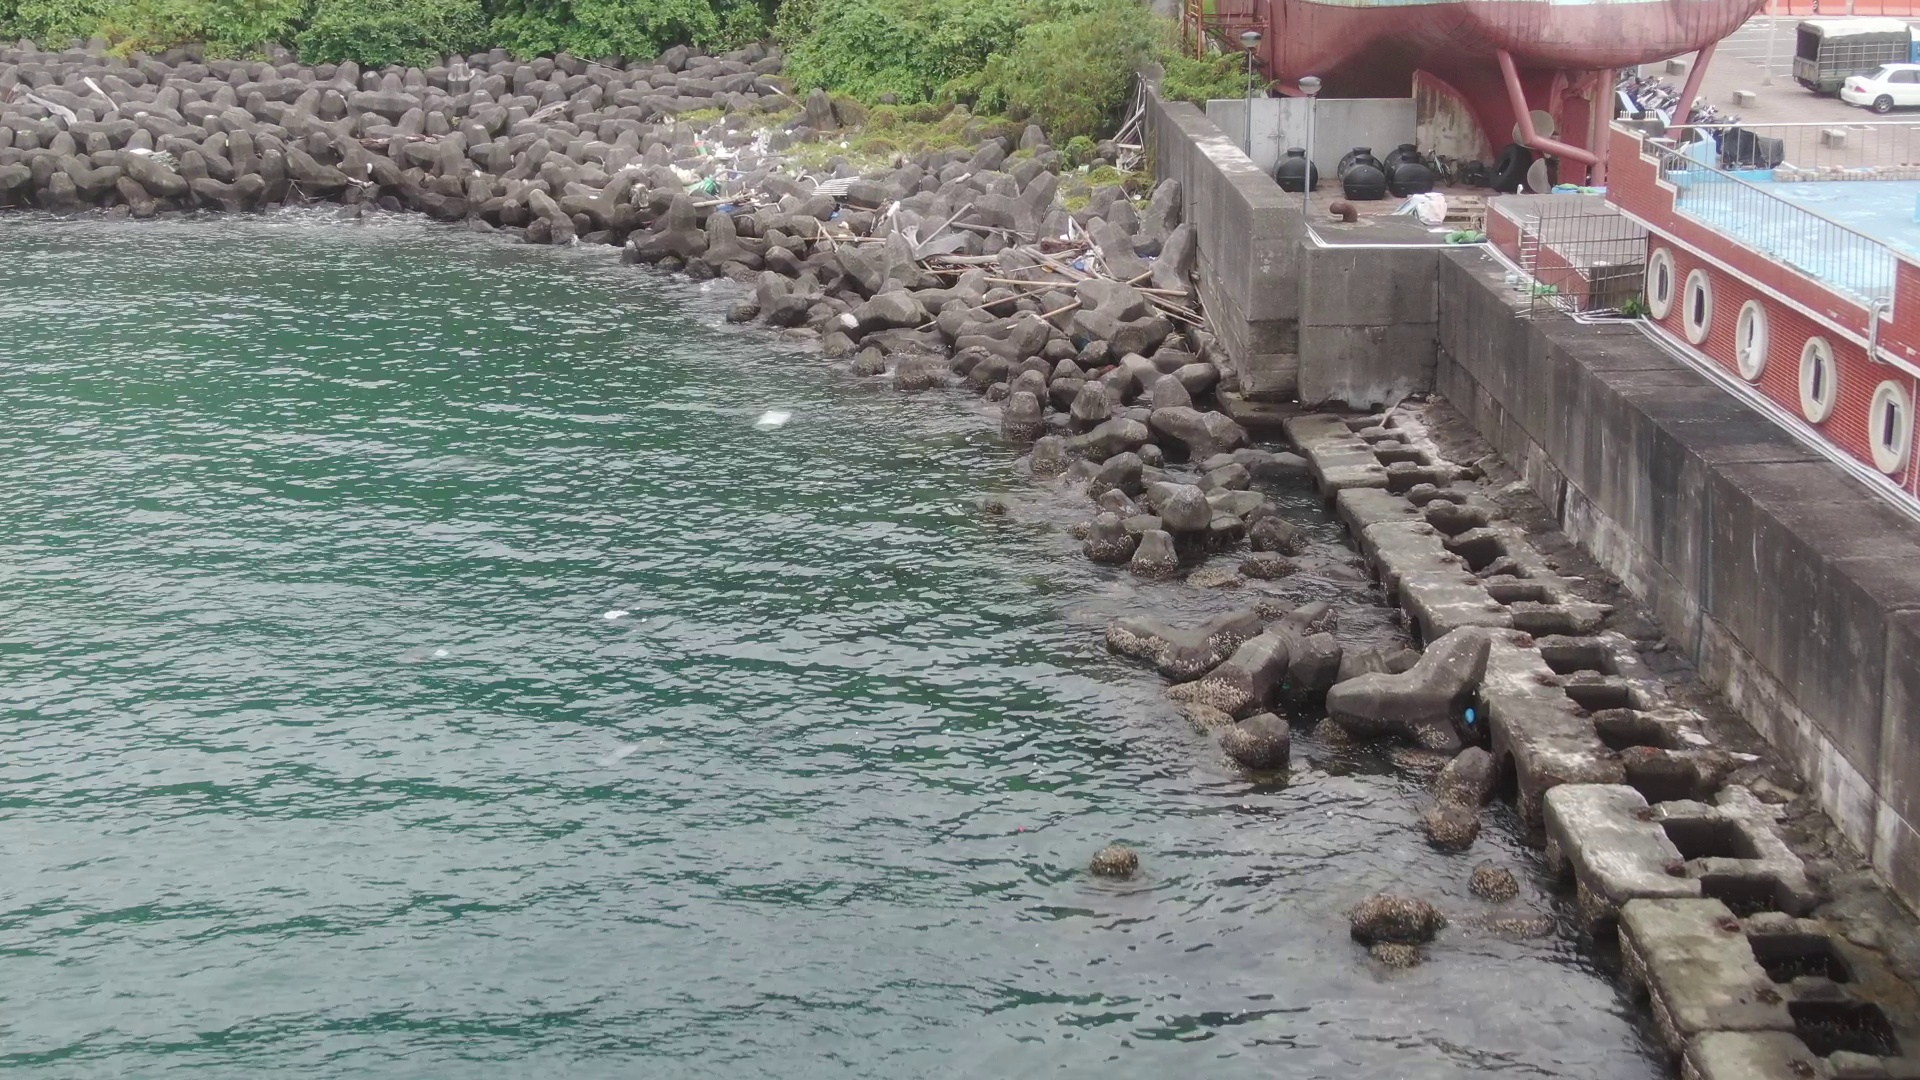garbage: (603, 96, 895, 237), (1029, 210, 1121, 298), (748, 384, 800, 443)
